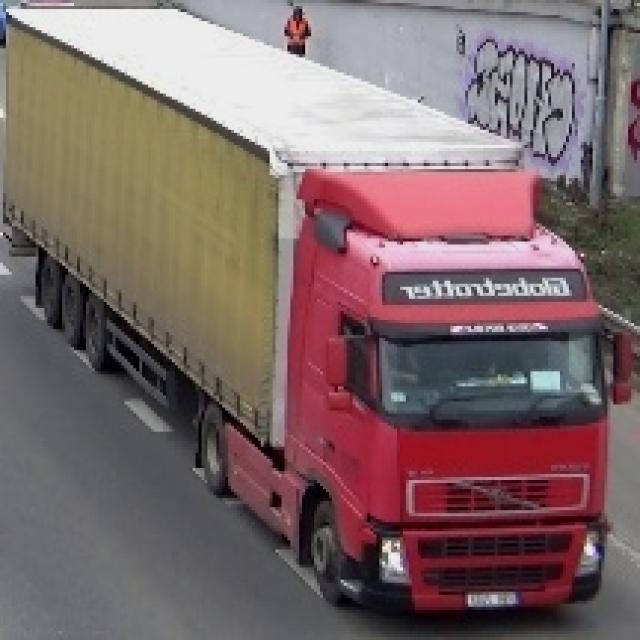TRUCK: (3, 7, 616, 608)
